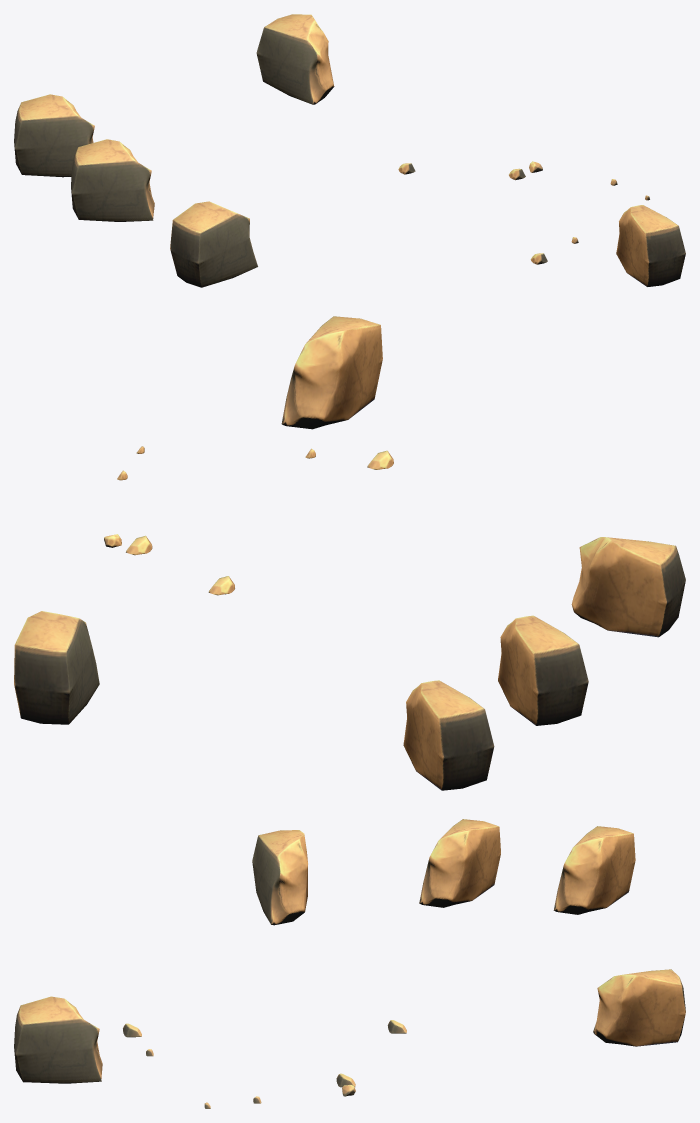
File: model_chunk_4.glb
3 views of the same model, one above another, from view 1: azimuth 30°, elevation 25°; view 2: azimuth 150°, elevation 25°; view 3: azimuth 270°, elevation 25° (orthographic). The views are drawn at different scales.
Parts seen in each view (by area): view 1: rock03006, rock03007, rock03005, rock03004, rock03_003; view 2: rock03007, rock03_003, rock03005, rock03006, rock03004; view 3: rock03_003, rock03005, rock03006, rock03004, rock03007.
Boxes of the visible parts, x1,y1,x2,y2 form: rock03006: (71, 139, 154, 221); rock03007: (170, 201, 257, 287); rock03005: (256, 14, 334, 104); rock03004: (14, 94, 94, 177); rock03_003: (616, 205, 685, 286); rock03007: (571, 537, 685, 637); rock03_003: (281, 316, 382, 429); rock03005: (14, 611, 99, 724); rock03006: (498, 615, 588, 725); rock03004: (403, 680, 494, 790); rock03_003: (14, 996, 102, 1083); rock03005: (593, 969, 685, 1046); rock03006: (419, 819, 500, 907); rock03004: (553, 826, 635, 914); rock03007: (252, 830, 307, 925).
Bounding box in the file's own units: 39.62 × 6.21 × 47.78.
1 material, 1 textured.
